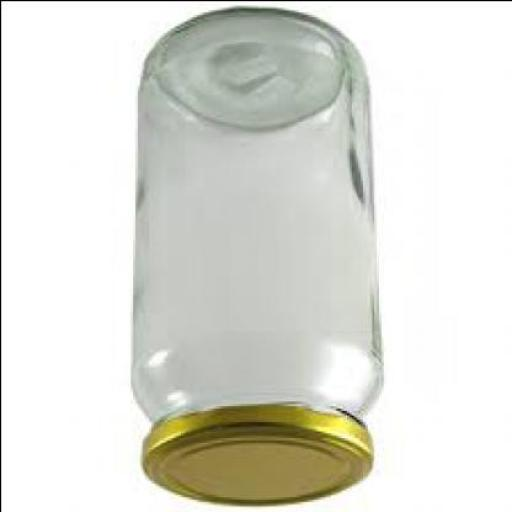glass: (130, 9, 382, 419)
metal: (141, 406, 373, 508)
